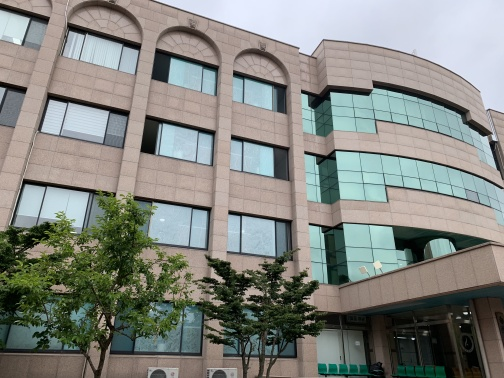Natural Science2: (18, 5, 501, 374), (288, 39, 504, 370)
